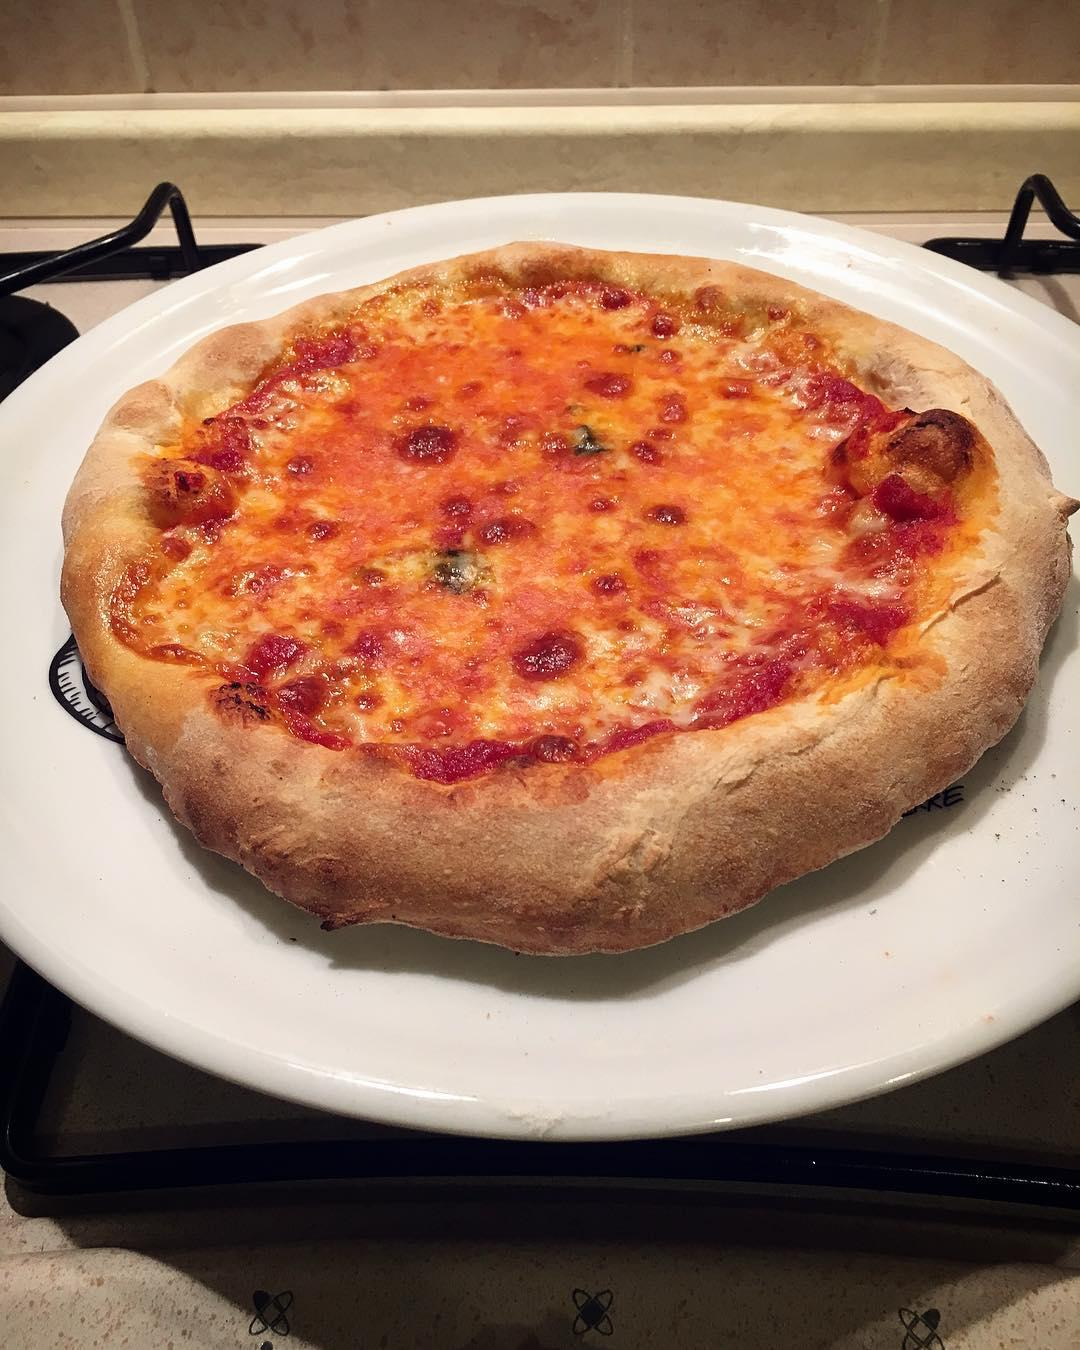Pizza: (54, 227, 1067, 951)
